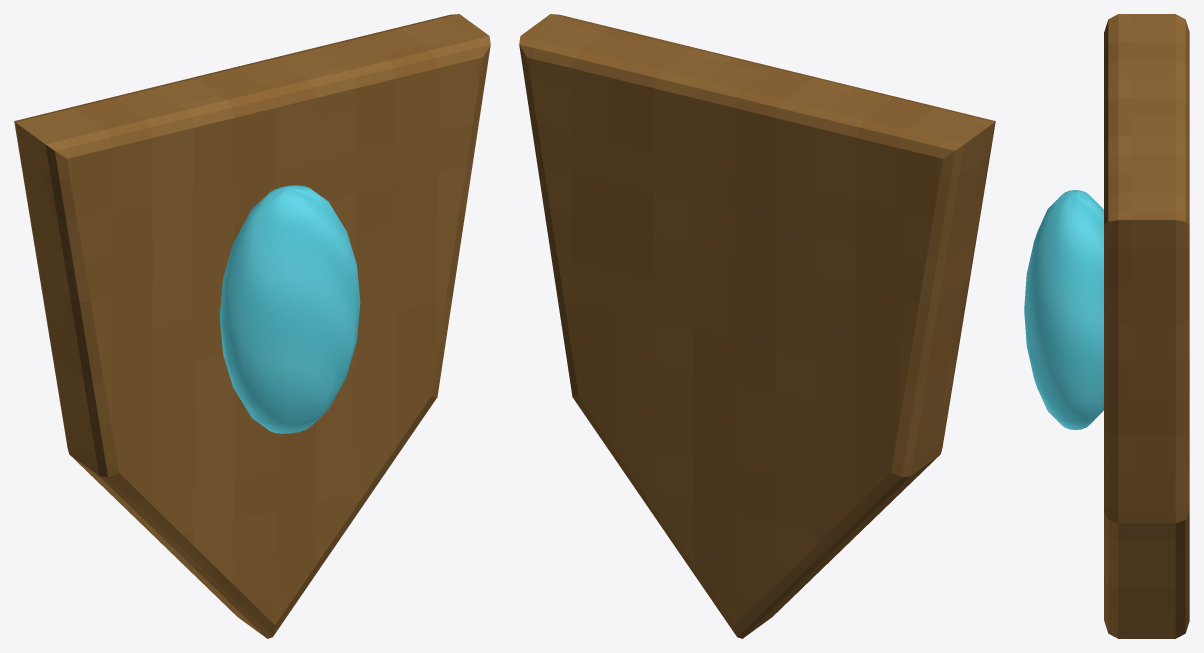
The picture shows the model from 3 angles, left to right: view 1: azimuth 30°, elevation 25°; view 2: azimuth 150°, elevation 25°; view 3: azimuth 270°, elevation 25°; orthographic projection. The views are drawn at different scales.
Parts seen in each view (by area): view 1: brass.0, crystal.1; view 2: brass.0; view 3: brass.0, crystal.1.
Part boxes in pixels (x1,y1,x2,y2): brass.0: [14, 14, 490, 638]; crystal.1: [219, 185, 360, 433]; brass.0: [519, 14, 995, 638]; brass.0: [1104, 14, 1189, 638]; crystal.1: [1024, 190, 1103, 429].
Size of the model in its own units: 0.1708 by 0.2016 by 0.058.
Materials: 2 (2 with a texture image).
